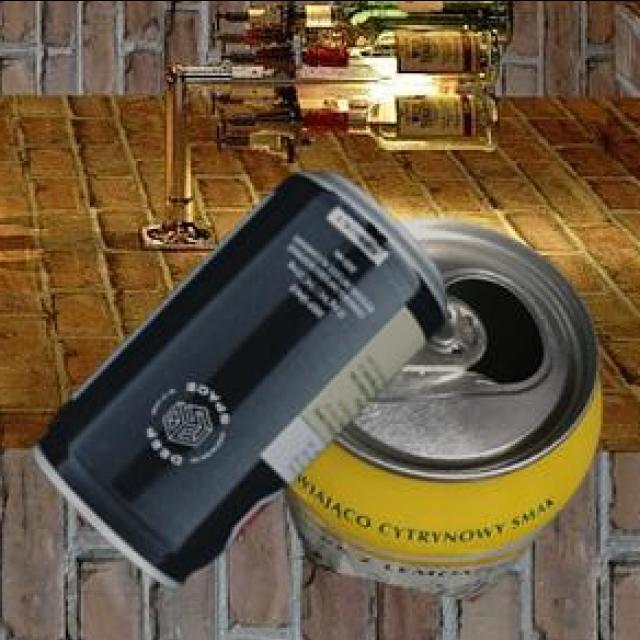logam: (36, 168, 450, 584), (286, 216, 606, 597)
